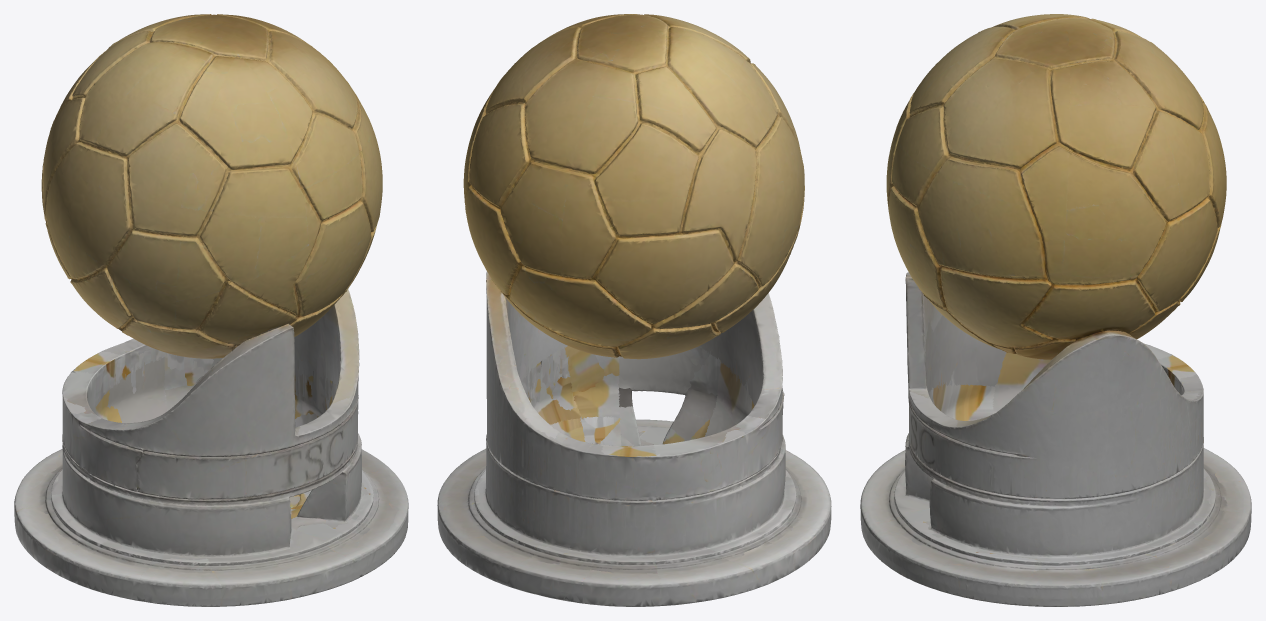
The model's file is copa_3.glb.
The picture shows the model from 3 angles, left to right: view 1: azimuth 30°, elevation 25°; view 2: azimuth 150°, elevation 25°; view 3: azimuth 270°, elevation 25°; orthographic projection.
Visible parts, largest first — view 1: tmpplohwh6_obj; view 2: tmpplohwh6_obj; view 3: tmpplohwh6_obj.
Boxes of the visible parts, x1,y1,x2,y2 form: tmpplohwh6_obj: [14, 14, 408, 606]; tmpplohwh6_obj: [437, 14, 831, 606]; tmpplohwh6_obj: [860, 14, 1251, 606].
Size of the model in its own units: 0.3606 by 0.5 by 0.3591.
1 material, 1 textured.
